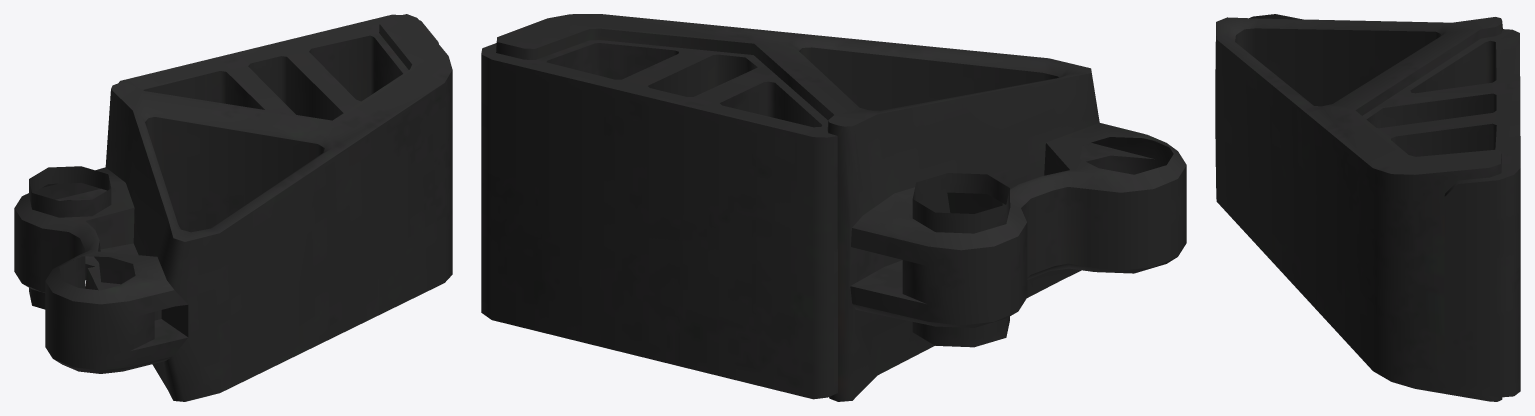
The model's file is right_gripper_5.dae.
3 views of the same model, side by side, from view 1: azimuth 30°, elevation 25°; view 2: azimuth 150°, elevation 25°; view 3: azimuth 270°, elevation 25° (orthographic). The views are drawn at different scales.
Visible parts, largest first — view 1: right_gripper_5; view 2: right_gripper_5; view 3: right_gripper_5.
Part boxes in pixels (left/top/right/bottom): right_gripper_5: left=14, top=14, right=452, bottom=401; right_gripper_5: left=481, top=14, right=1186, bottom=401; right_gripper_5: left=1215, top=14, right=1520, bottom=401.
Bounding box in the file's own units: 0.047 × 0.0256 × 0.022.
